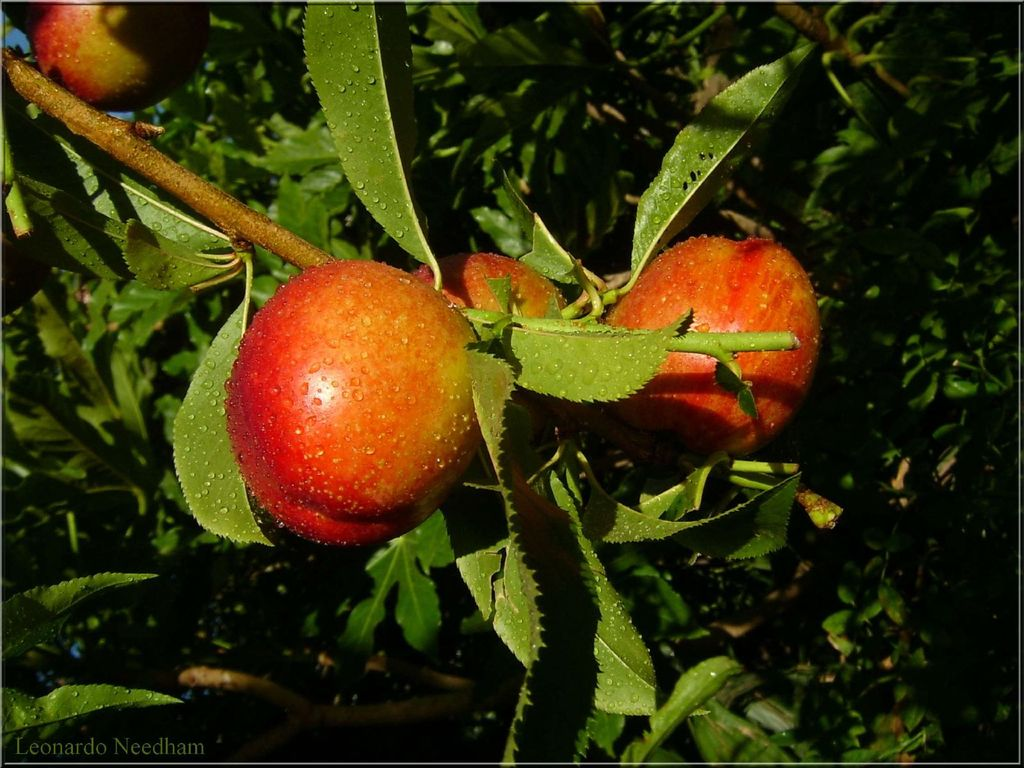Apple: (24, 15, 210, 108)
